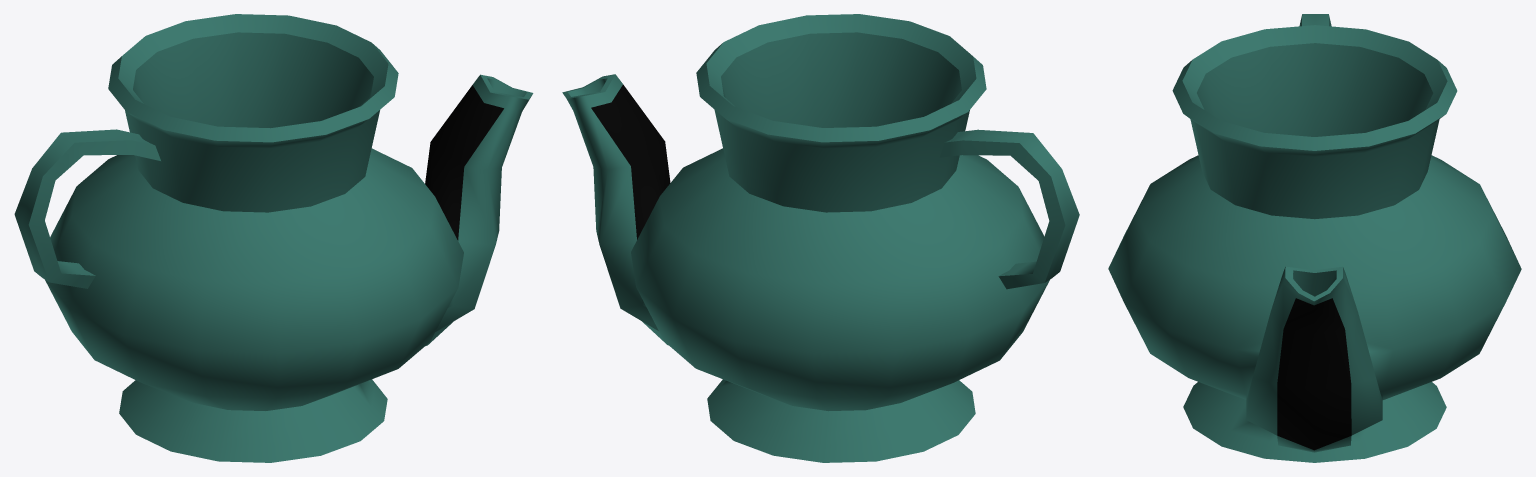
The model's file is TeaPot_low.fbx.
3 views of the same model, side by side, from view 1: azimuth 30°, elevation 25°; view 2: azimuth 150°, elevation 25°; view 3: azimuth 270°, elevation 25° (orthographic). The views are drawn at different scales.
Parts seen in each view (by area): view 1: Cylinder.011; view 2: Cylinder.011; view 3: Cylinder.011.
Part boxes in pixels (left/top/right/bottom): Cylinder.011: left=14, top=14, right=533, bottom=462; Cylinder.011: left=562, top=14, right=1079, bottom=462; Cylinder.011: left=1108, top=14, right=1521, bottom=462.
Bounding box in the file's own units: 561 × 352 × 404.
